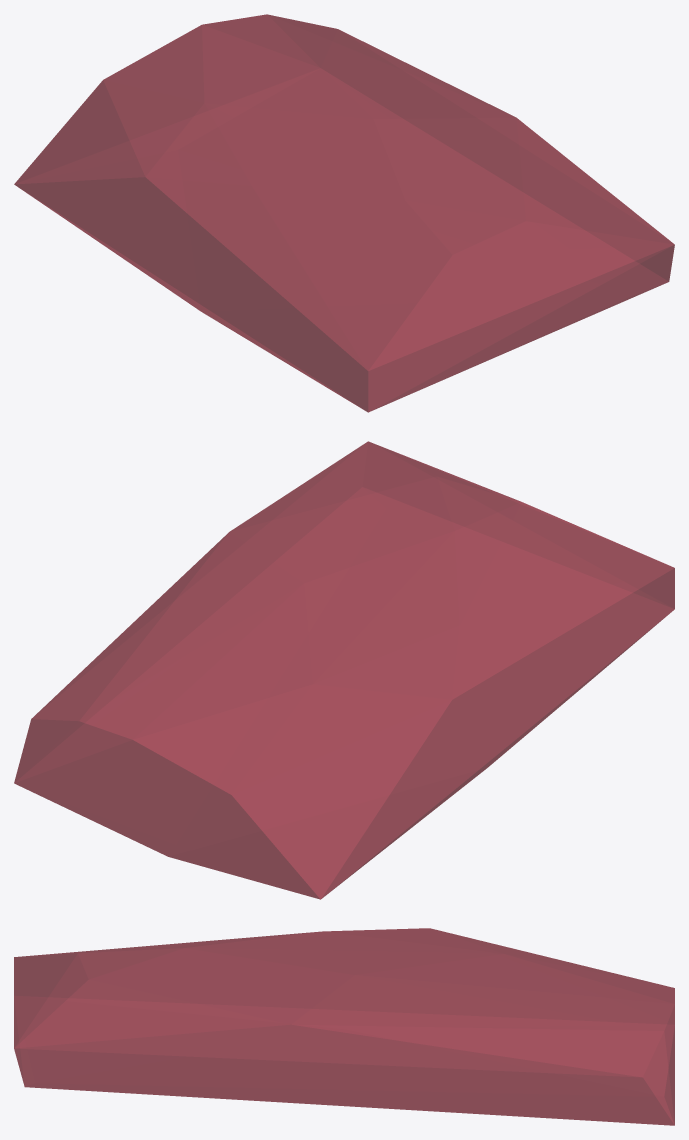
The picture shows the model from 3 angles, top to bottom: view 1: azimuth 30°, elevation 25°; view 2: azimuth 150°, elevation 25°; view 3: azimuth 270°, elevation 25°; orthographic projection. The views are drawn at different scales.
Parts seen in each view (by area): view 1: Shape_IndexedFaceSet.085_Shape_IndexedFaceSet.16487; view 2: Shape_IndexedFaceSet.085_Shape_IndexedFaceSet.16487; view 3: Shape_IndexedFaceSet.085_Shape_IndexedFaceSet.16487.
Boxes of the visible parts, x1,y1,x2,y2 form: Shape_IndexedFaceSet.085_Shape_IndexedFaceSet.16487: (14,14,674,412); Shape_IndexedFaceSet.085_Shape_IndexedFaceSet.16487: (14,441,674,899); Shape_IndexedFaceSet.085_Shape_IndexedFaceSet.16487: (14,928,674,1125).
Size of the model in its own units: 0.00712 by 0.00322 by 0.0142.
